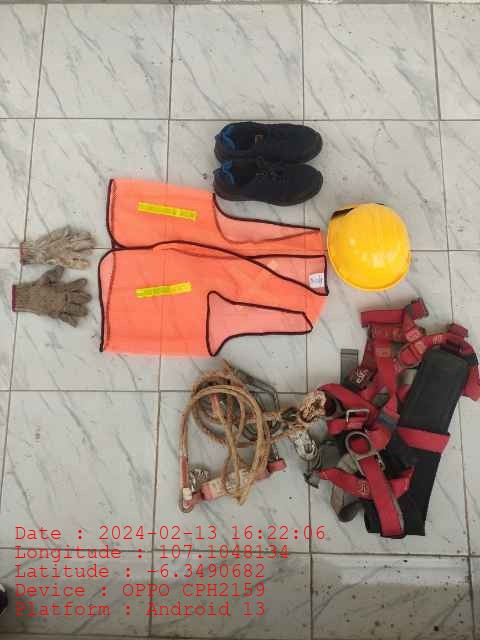HELM: (327, 202, 411, 292)
ROMPI: (103, 196, 318, 356)
SARUNG_TANGAN: (12, 268, 91, 327), (18, 223, 97, 273)
SEPATU: (212, 119, 323, 208)
TAMBANG_SLING: (171, 359, 325, 514)
